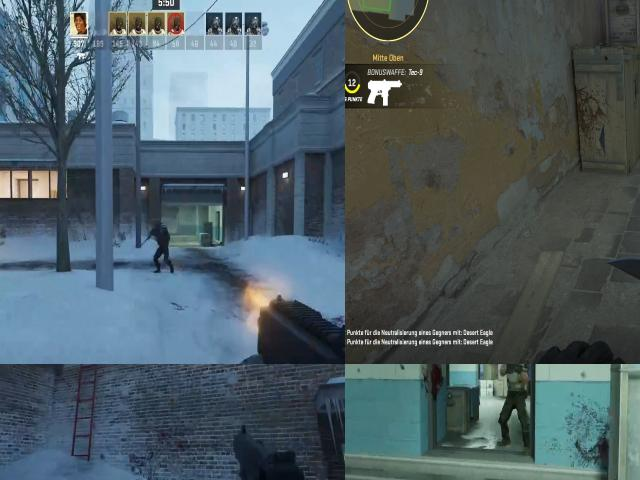CT: (155, 217, 170, 256)
CT-Head: (154, 219, 162, 231)
T: (499, 364, 532, 405)
T-Head: (500, 364, 523, 373)
